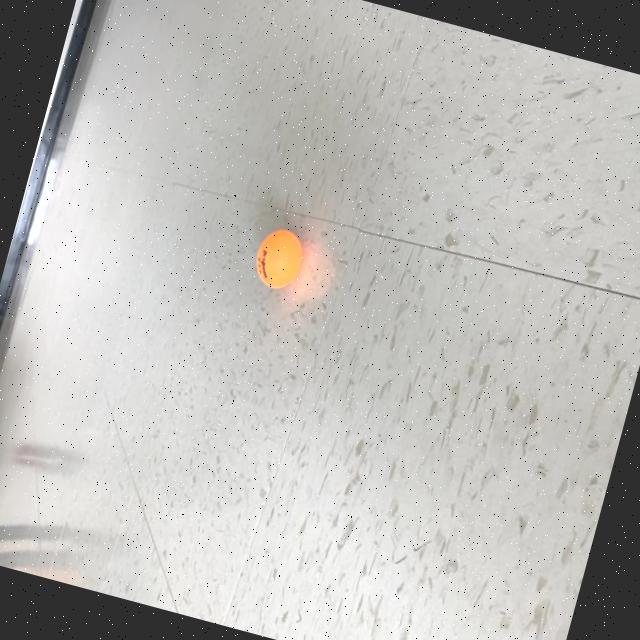ping-pong-ball: (246, 221, 309, 296)
